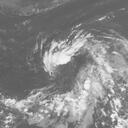cyclone: (42, 40, 72, 76)
